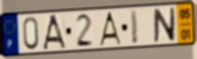0: (22, 16, 40, 52)
2: (73, 13, 94, 48)
A: (42, 14, 68, 51), (97, 11, 123, 47)
I: (129, 9, 139, 46)
N: (153, 6, 176, 44)
